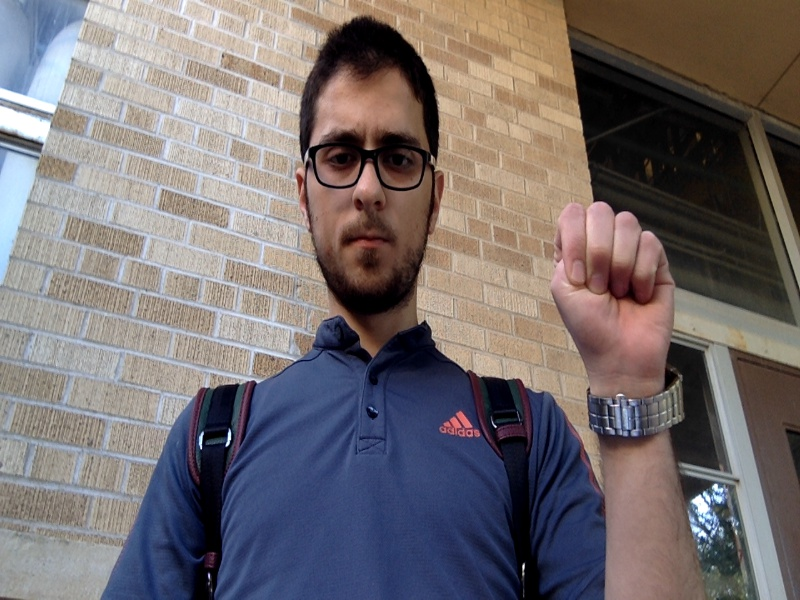0-hand: (555, 202, 673, 384)
